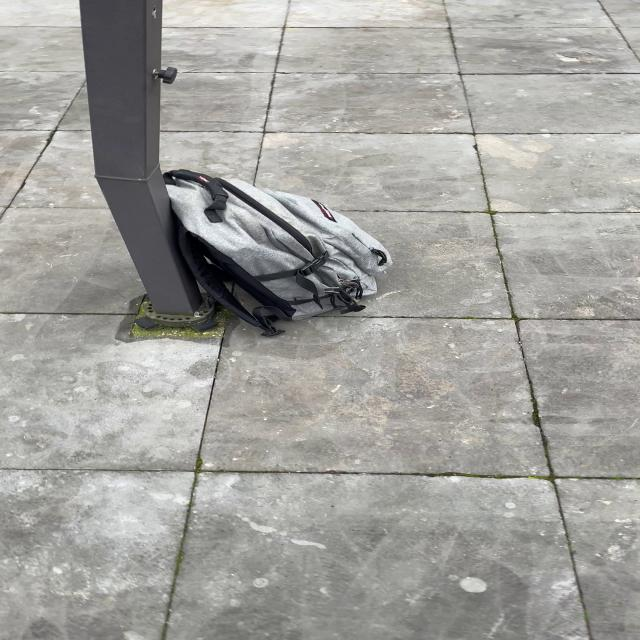backpack: (155, 165, 399, 338)
